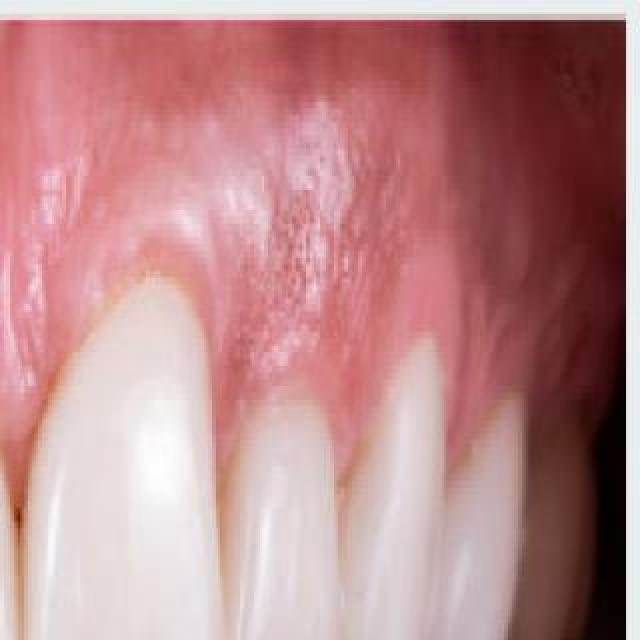plaque: (318, 453, 386, 633), (200, 425, 258, 625)
